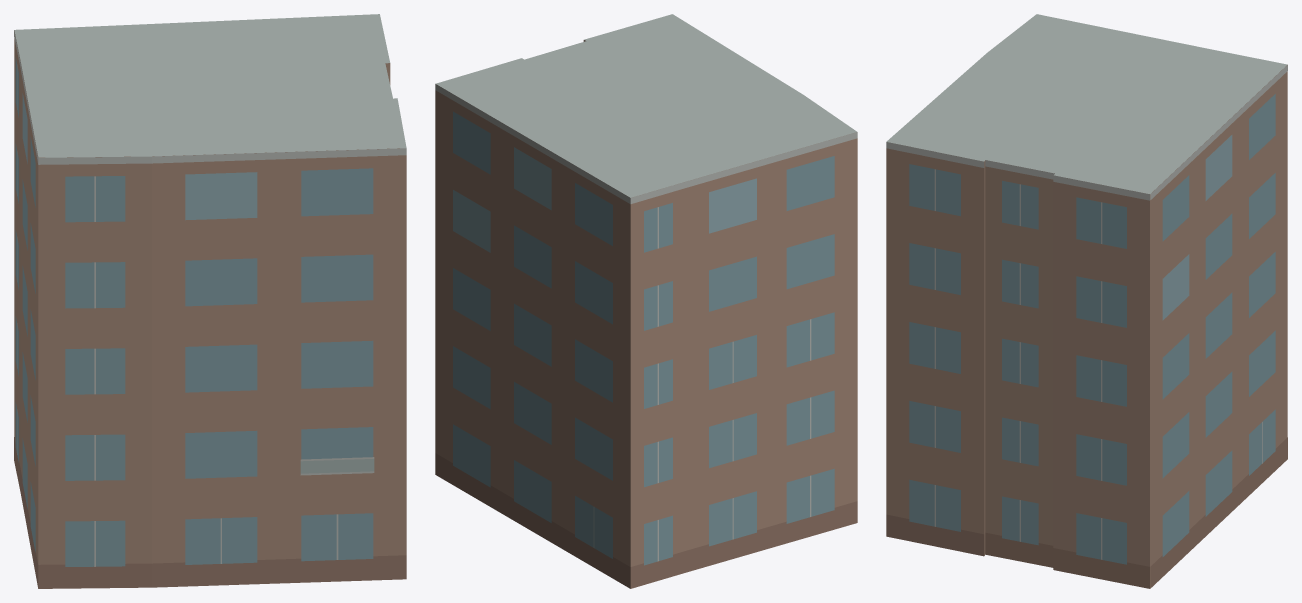
File: survey-upis-32630392.glb
The picture shows the model from 3 angles, left to right: view 1: azimuth 30°, elevation 25°; view 2: azimuth 150°, elevation 25°; view 3: azimuth 270°, elevation 25°; orthographic projection. The views are drawn at different scales.
Parts seen in each view (by area): view 1: survey-upis-32630392.tmp; view 2: survey-upis-32630392.tmp; view 3: survey-upis-32630392.tmp.
Boxes of the visible parts, <box> form: survey-upis-32630392.tmp: <box>14,14,406,588</box>; survey-upis-32630392.tmp: <box>435,14,857,588</box>; survey-upis-32630392.tmp: <box>886,14,1287,588</box>.
Bounding box in the file's own units: 14.6 × 14.9 × 13.75.
